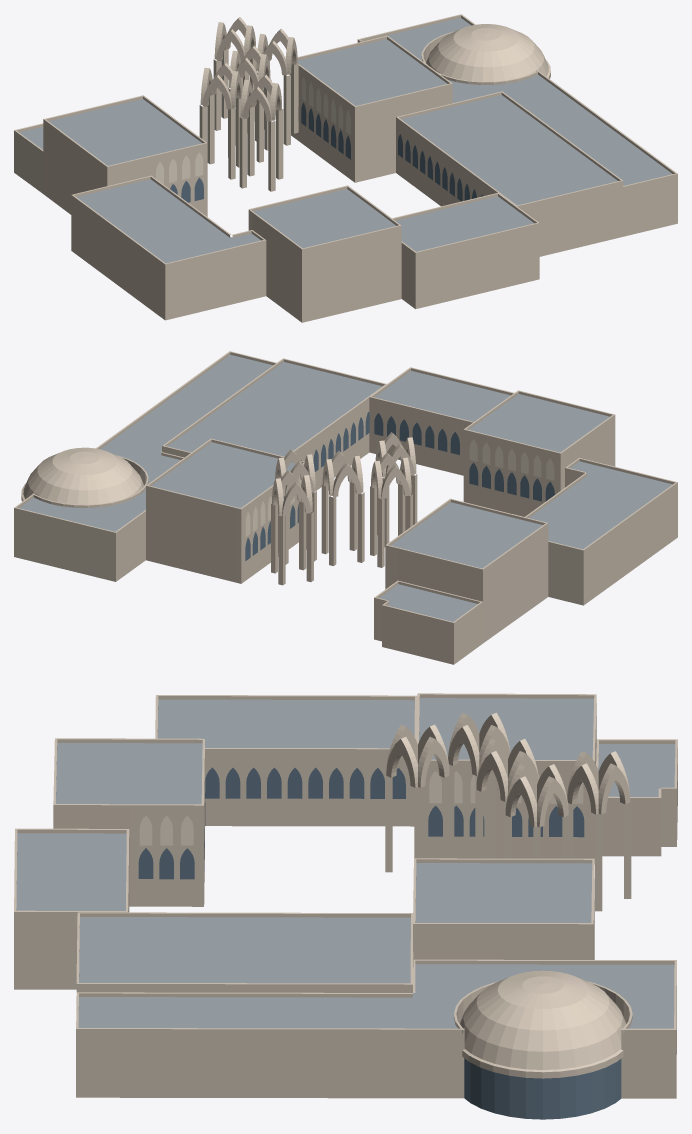
File: sea-pacific-science-center.glb
3 views of the same model, one above another, from view 1: azimuth 30°, elevation 25°; view 2: azimuth 150°, elevation 25°; view 3: azimuth 270°, elevation 25° (orthographic). The views are drawn at different scales.
Visible parts, largest first — view 1: Pacific Science Center; view 2: Pacific Science Center; view 3: Pacific Science Center.
Boxes of the visible parts, x1,y1,x2,y2 form: Pacific Science Center: (14,14,677,322); Pacific Science Center: (14,351,677,664); Pacific Science Center: (14,693,677,1119).
Bounding box in the file's own units: 167 × 37.9 × 135.
